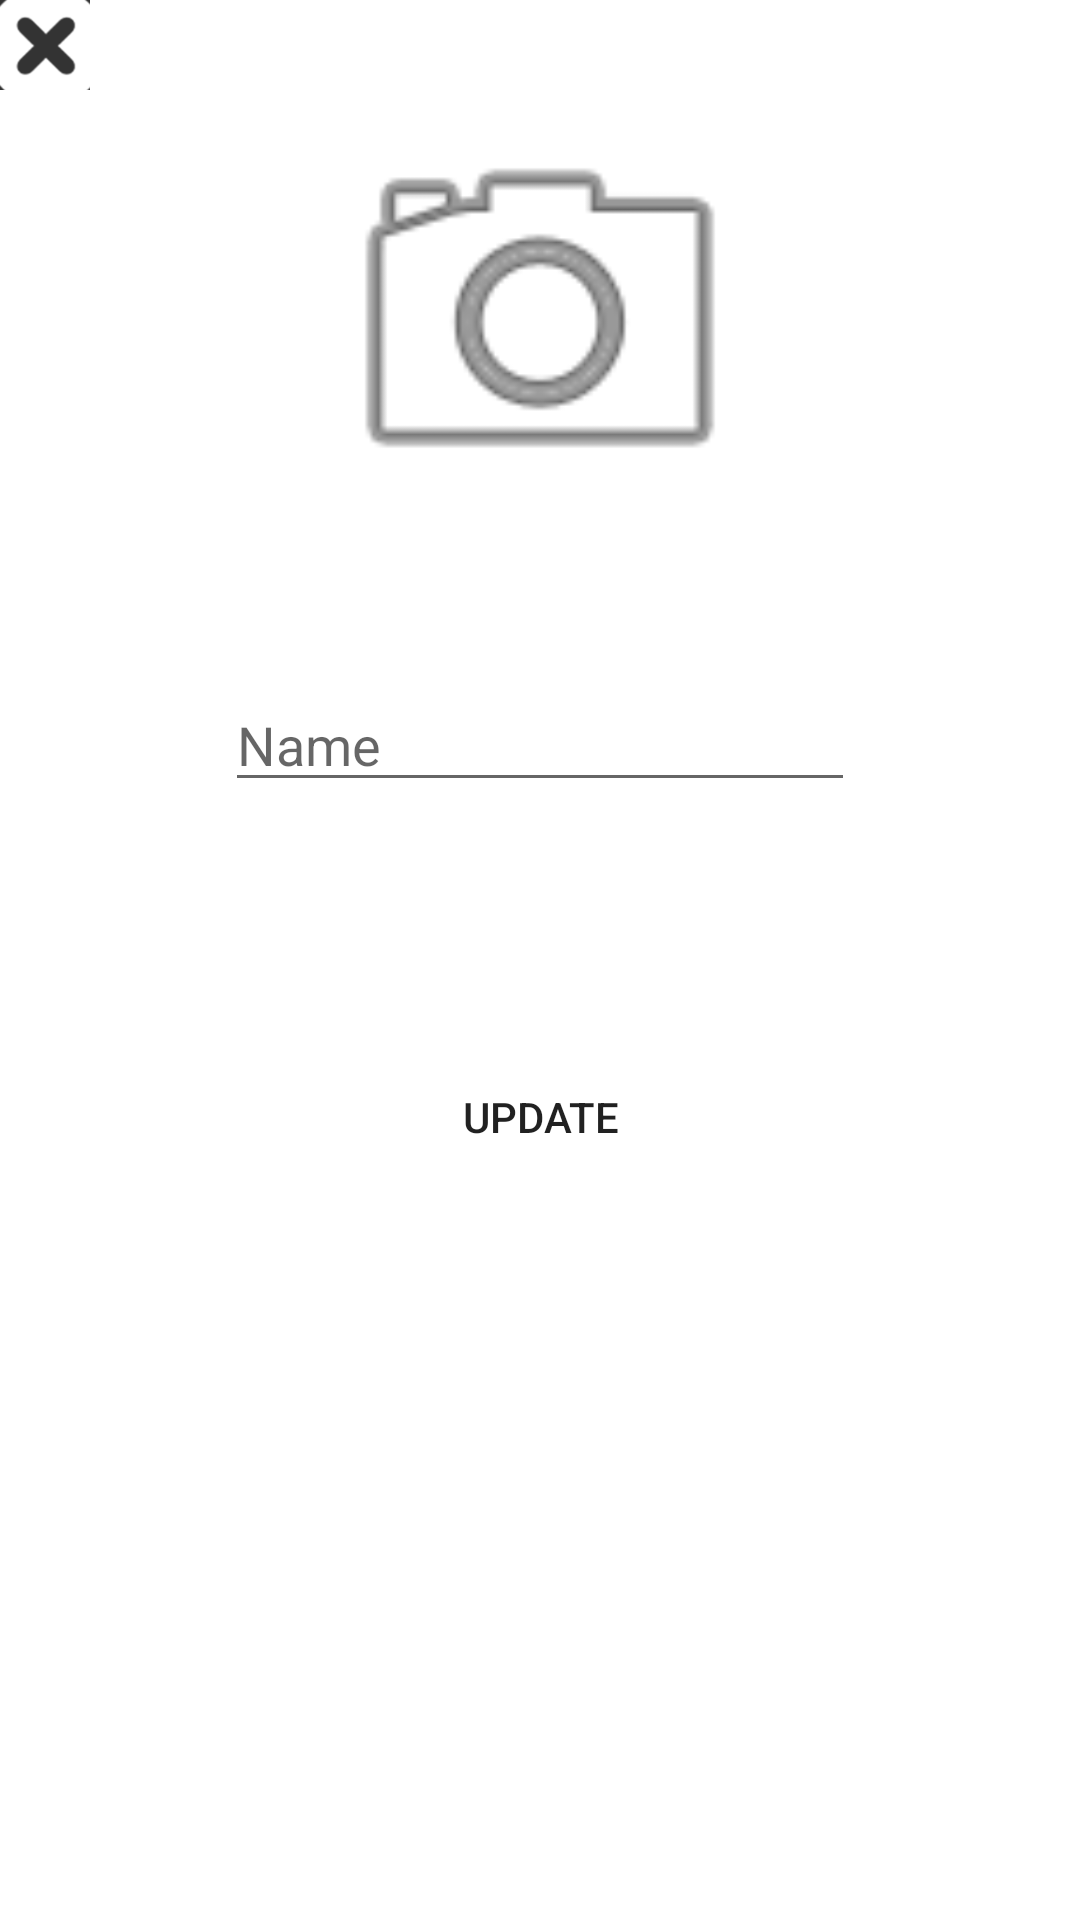

Icons on this 1080 x 1920 Android screen, each with the point to tap as (x,y):
camera: (540,308)
delete: (45,45)
